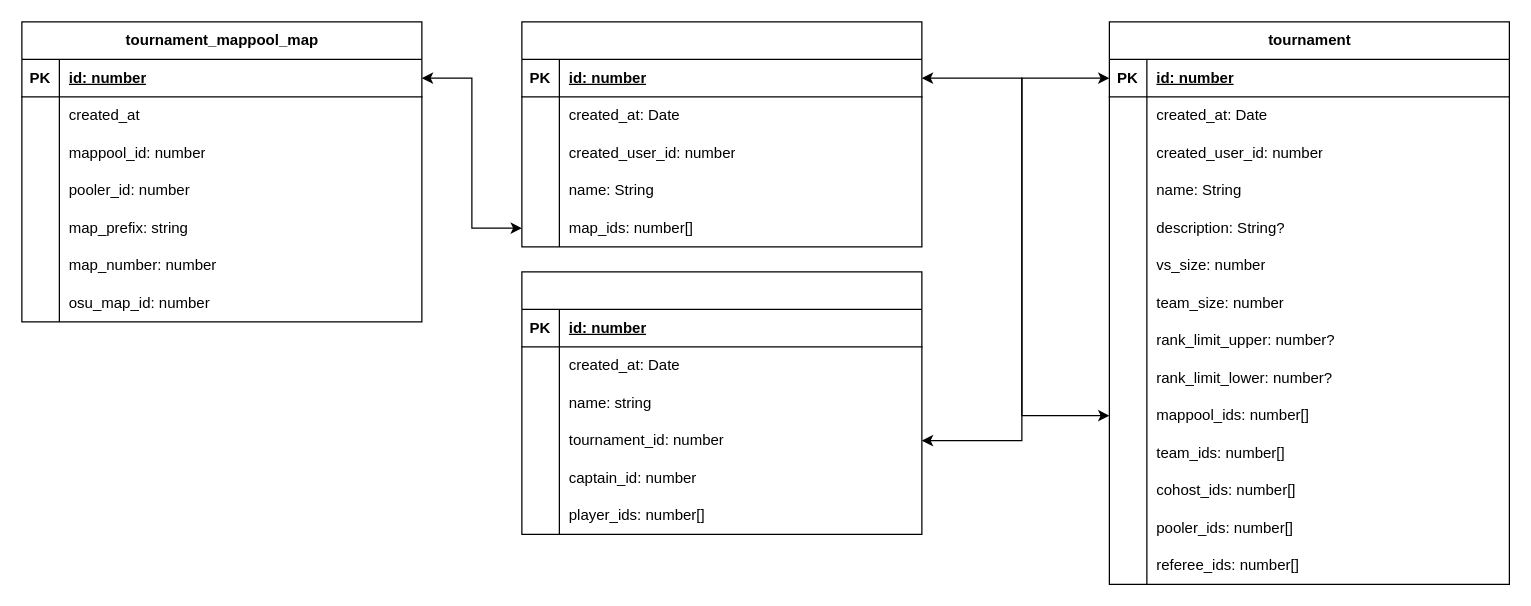
This 1531x606 diagram has some shape labels left out. The box of each missing label's shape, as (x1, y1, x2, y2) in pixels:
tournament_mappool: (521, 21, 922, 247)
tournament_team: (521, 271, 922, 534)
